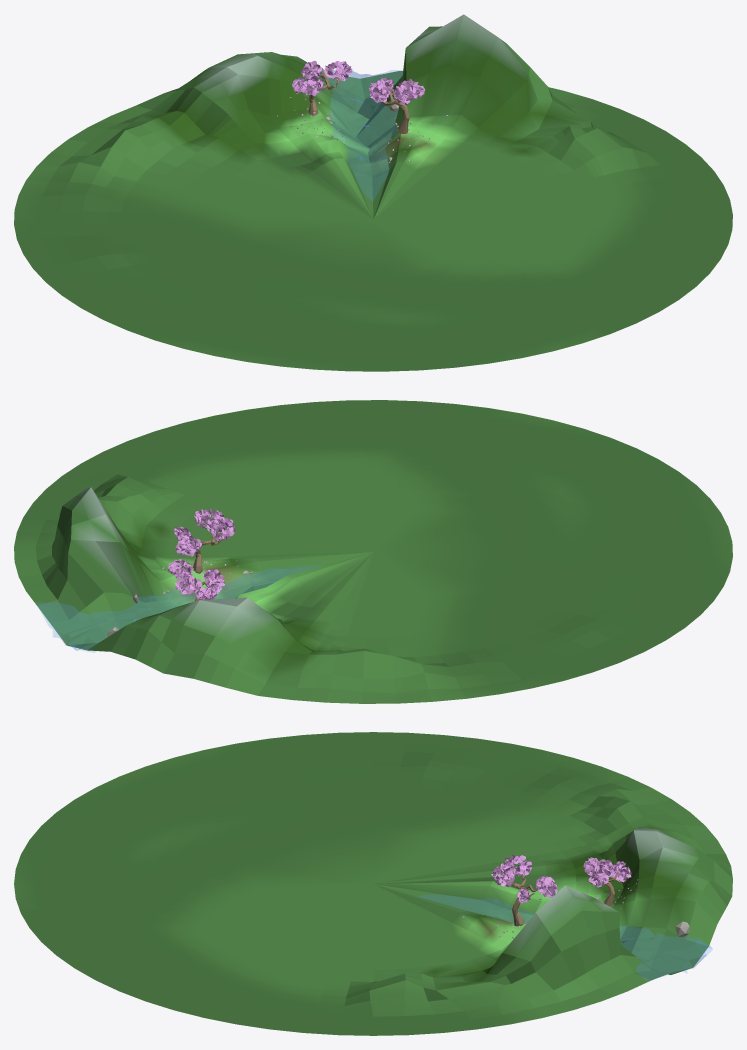
Rendered from type.glb.
The picture shows the model from 3 angles, top to bottom: view 1: azimuth 30°, elevation 25°; view 2: azimuth 150°, elevation 25°; view 3: azimuth 270°, elevation 25°; orthographic projection.
Parts seen in each view (by area): view 1: Circle, Plane.002; view 2: Circle, Plane.002; view 3: Circle, Plane.002.
Part boxes in pixels (<box>): Circle: <box>14,14,732,371</box>; Plane.002: <box>329,70,402,200</box>; Circle: <box>14,400,732,703</box>; Plane.002: <box>36,565,322,652</box>; Circle: <box>14,732,732,1035</box>; Plane.002: <box>417,895,712,980</box>.
Size of the model in its own units: 35.09 by 7 by 35.1.
